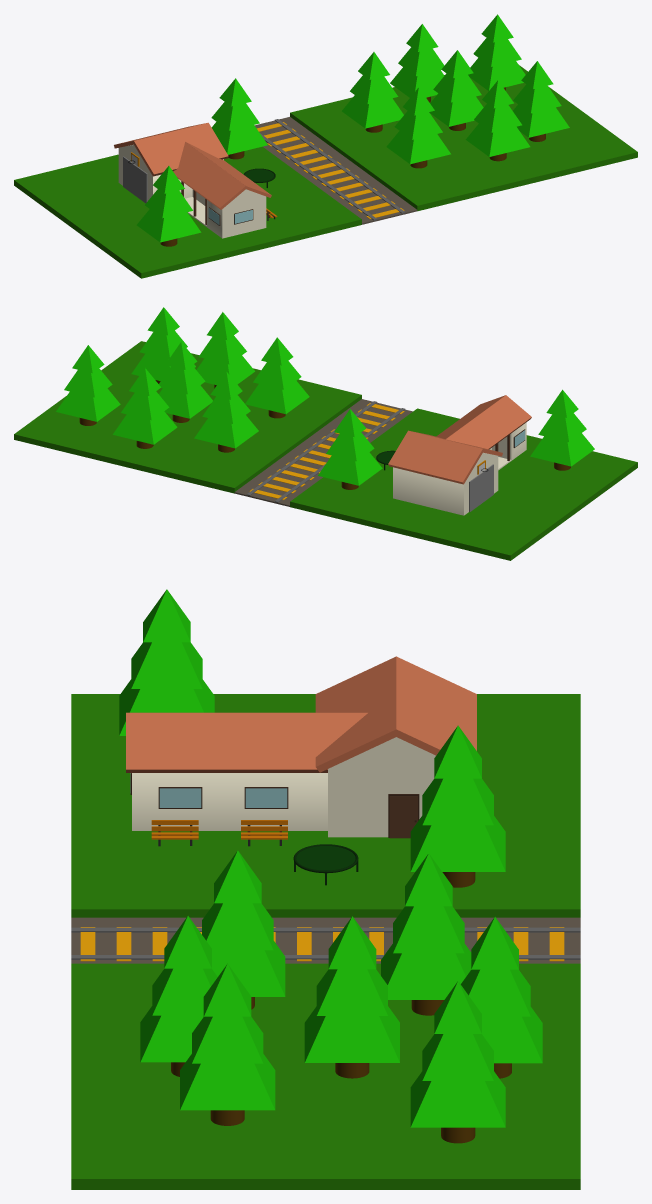
File: m_train_4_2.fbx
3 views of the same model, one above another, from view 1: azimuth 30°, elevation 25°; view 2: azimuth 150°, elevation 25°; view 3: azimuth 270°, elevation 25° (orthographic). The views are drawn at different scales.
Visible parts, largest first — view 1: GreenZone_1, GreenZoneLeft, house_block, railway_terrain_1, roof_2, woods, Pyramid_2, Pyramid_2_4, Pyramid_2_9, Pyramid_2_7, Pyramid_2_10, Pyramid_2_8 (+25 smaller); view 2: GreenZone_1, GreenZoneLeft, railway_terrain_1, house_block, roof, house_garage, woods, Pyramid_2_5, Pyramid_2_2, Pyramid_2_7, Pyramid_2_9, Pyramid_2_10 (+25 smaller); view 3: GreenZoneLeft, GreenZone_1, house_block, railway_terrain_1, house_garage, roof, roof_2, Pyramid_2_6, Pyramid_2_10, Pyramid_2_8, Pyramid_2_2, Pyramid_2_7 (+29 smaller).
Part boxes in pixels (x1,y1,x2,y2): GreenZone_1: [14, 146, 361, 278]; GreenZoneLeft: [290, 65, 637, 211]; house_block: [173, 142, 271, 238]; railway_terrain_1: [254, 117, 417, 224]; roof_2: [133, 122, 228, 176]; woods: [257, 122, 404, 218]; Pyramid_2: [136, 209, 201, 242]; Pyramid_2_4: [465, 124, 530, 156]; Pyramid_2_9: [386, 131, 450, 164]; Pyramid_2_7: [342, 95, 403, 128]; Pyramid_2_10: [468, 58, 525, 90]; Pyramid_2_8: [429, 93, 483, 126]; GreenZone_1: [290, 408, 637, 560]; GreenZoneLeft: [14, 341, 361, 493]; railway_terrain_1: [234, 399, 412, 506]; house_block: [436, 395, 531, 470]; roof: [388, 430, 483, 484]; house_garage: [393, 452, 498, 515]; woods: [249, 403, 404, 499]; Pyramid_2_5: [113, 411, 177, 444]; Pyramid_2_2: [318, 452, 382, 485]; Pyramid_2_7: [194, 415, 258, 448]; Pyramid_2_9: [245, 381, 309, 414]; Pyramid_2_10: [56, 388, 120, 421]; GreenZoneLeft: [71, 963, 580, 1189]; GreenZone_1: [71, 694, 580, 917]; house_block: [126, 712, 367, 830]; railway_terrain_1: [71, 917, 580, 963]; house_garage: [328, 737, 435, 837]; roof: [392, 656, 476, 755]; roof_2: [315, 656, 399, 772]; Pyramid_2_6: [180, 1054, 275, 1110]; Pyramid_2_10: [410, 1071, 505, 1127]; Pyramid_2_8: [304, 1006, 399, 1062]; Pyramid_2_2: [410, 816, 505, 871]; Pyramid_2_7: [381, 944, 471, 999].
Size of the model in its own units: 5629 by 901 by 2500.
